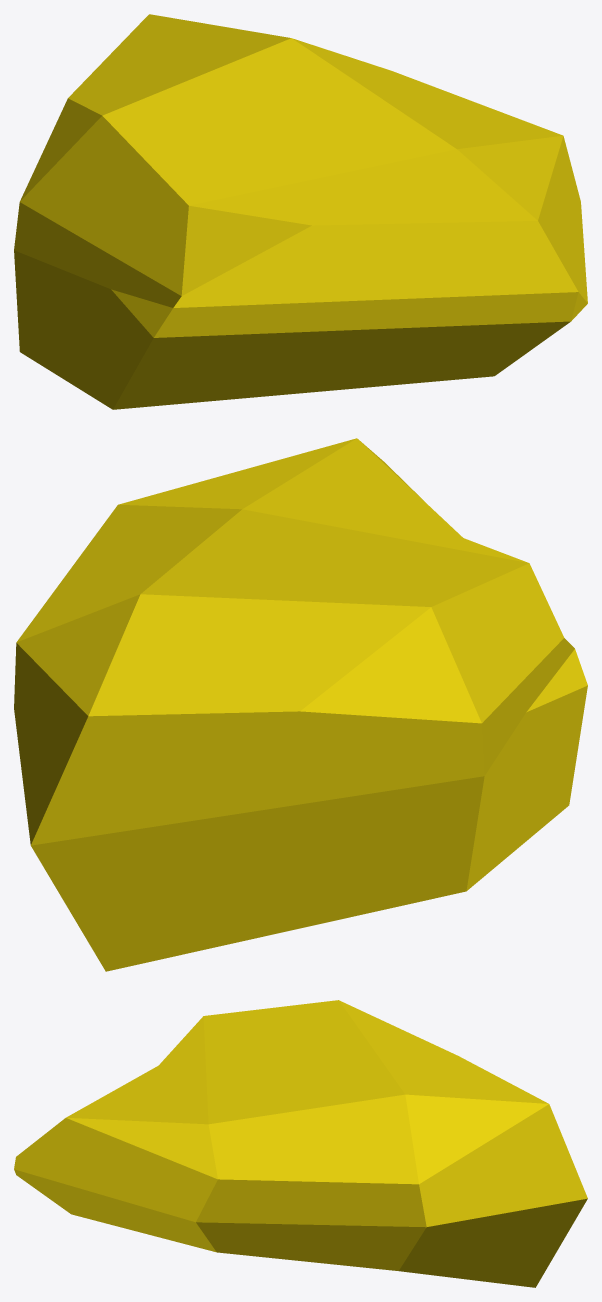
Rendered from Nugget2_Gold.fbx.
3 views of the same model, one above another, from view 1: azimuth 30°, elevation 25°; view 2: azimuth 150°, elevation 25°; view 3: azimuth 270°, elevation 25° (orthographic). The views are drawn at different scales.
Parts seen in each view (by area): view 1: Nugget2_Gold; view 2: Nugget2_Gold; view 3: Nugget2_Gold.
Boxes of the visible parts, <box> form: Nugget2_Gold: <box>14,14,587,409</box>; Nugget2_Gold: <box>14,438,587,971</box>; Nugget2_Gold: <box>14,1000,587,1287</box>.
Size of the model in its own units: 25.59 by 16.01 by 37.51.
